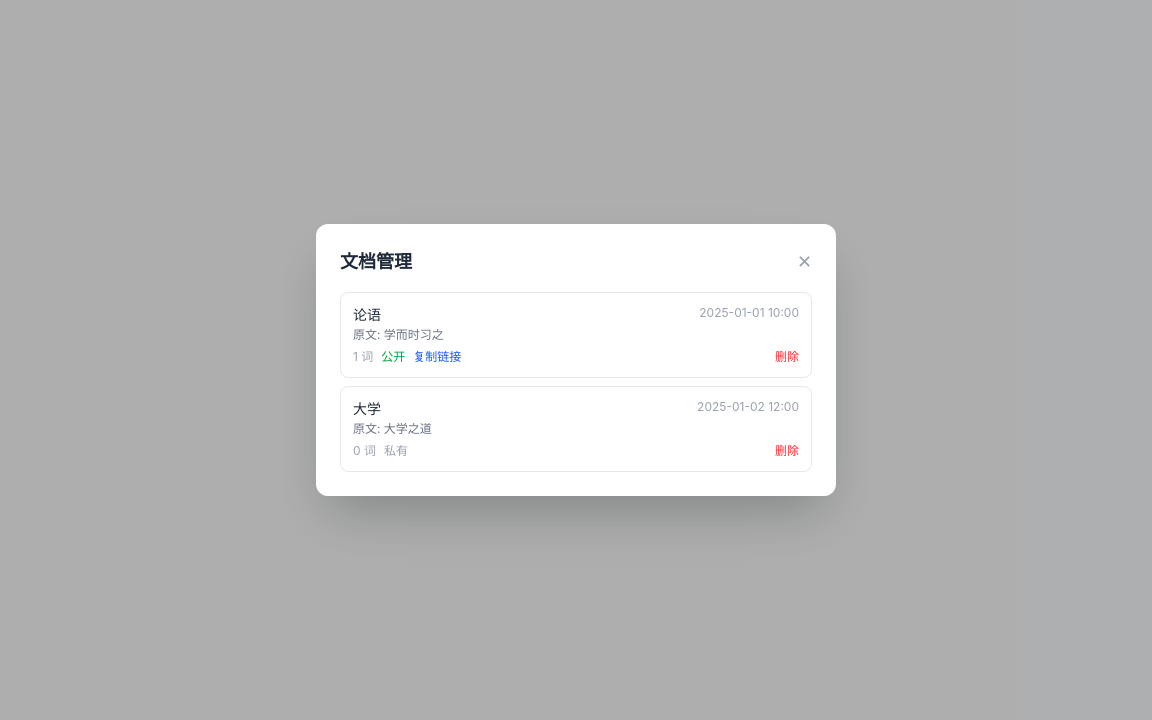
Test case: LoadDocumentDialog › shows action error on delete failure
Click the button "删除" in the row of "1 词" at (787, 357), box [775,349,799,365]
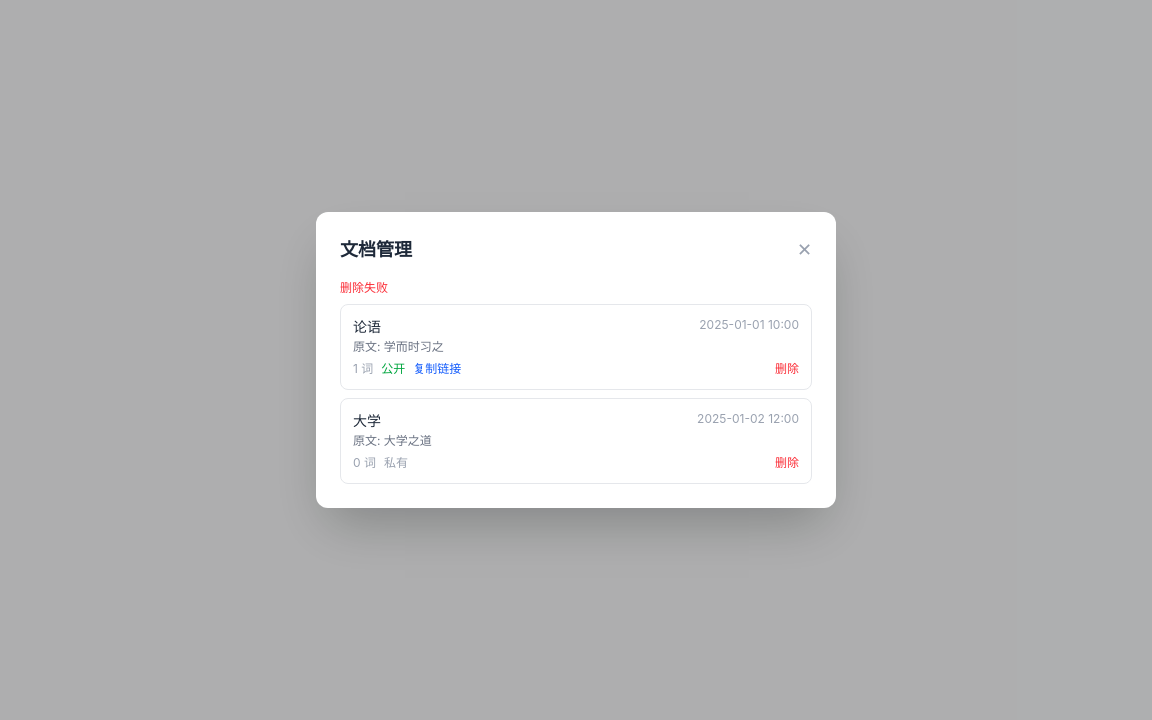
Expected: the text "删除失败" is shown, [340,280,388,295]
